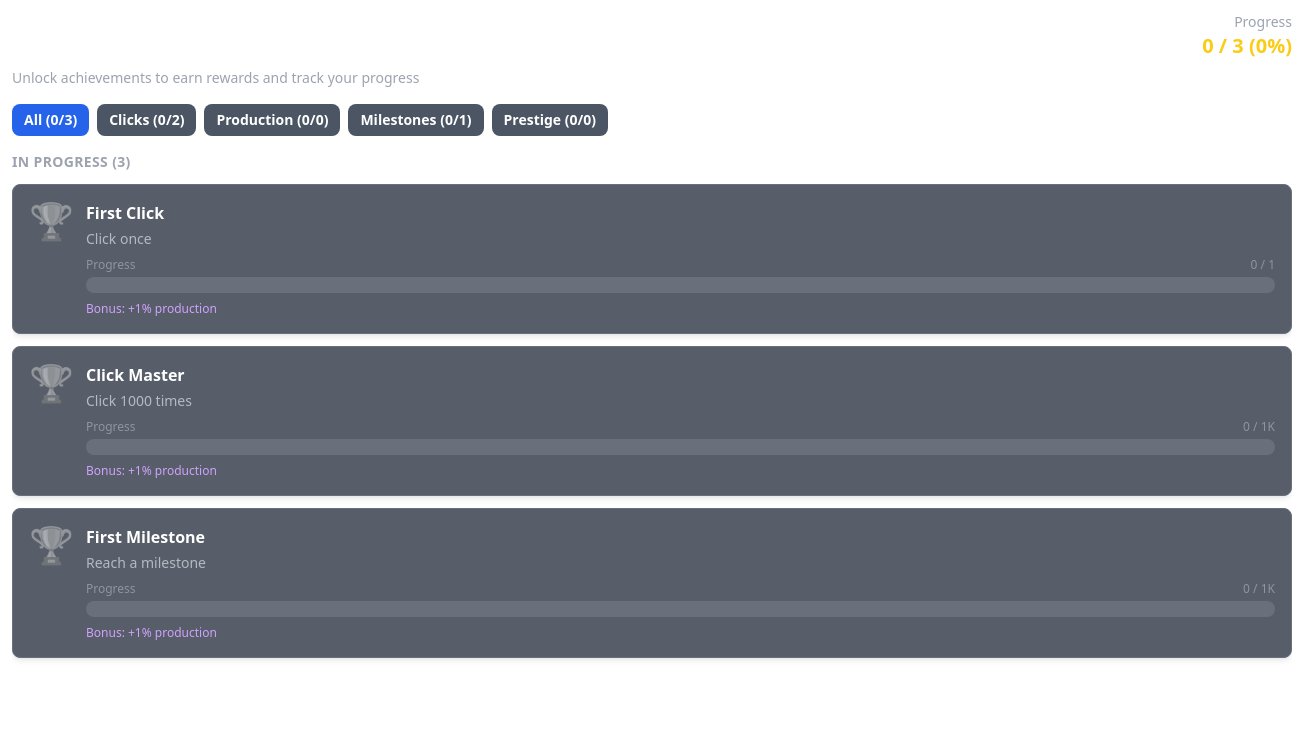
AchievementsPanel › should show empty state for category with no achievements
Step 1. Click the button with aria-label "Production achievements" → (272, 120), box [204,104,340,136]
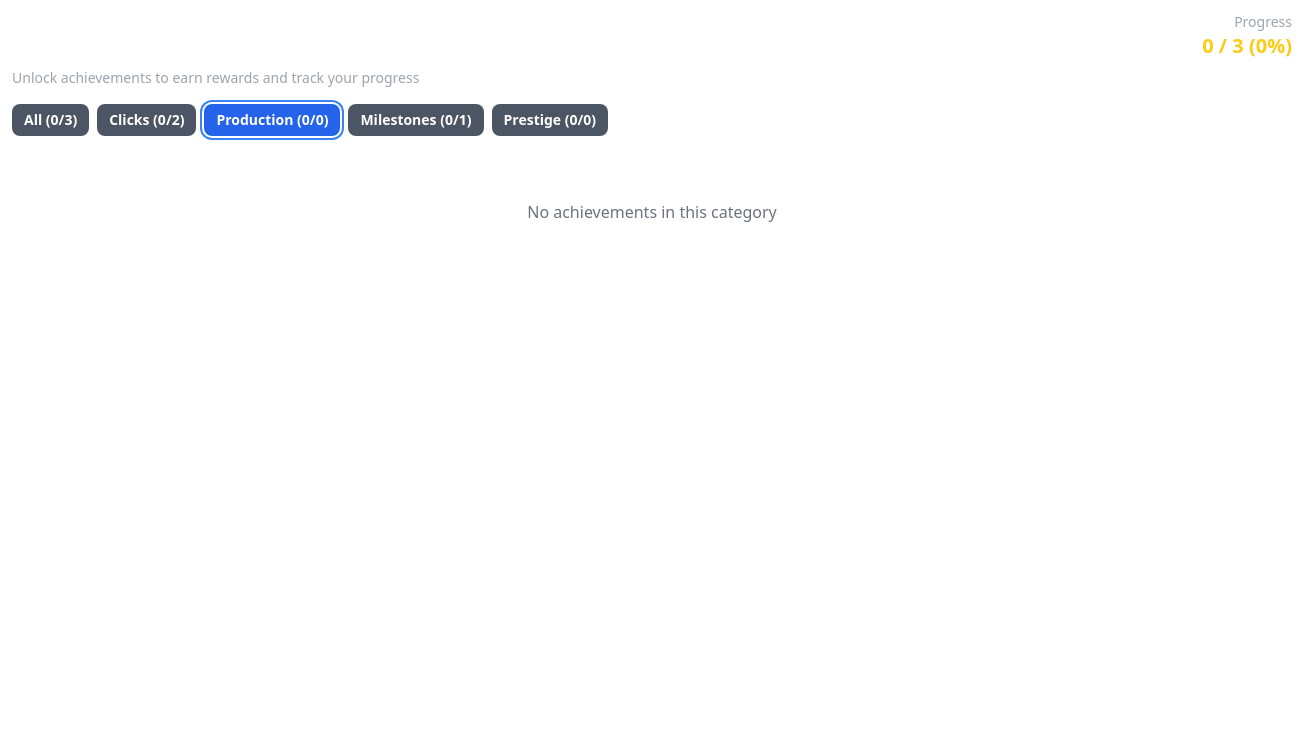
Now the text "No achievements in this category" is shown, box [527,201,777,223]
